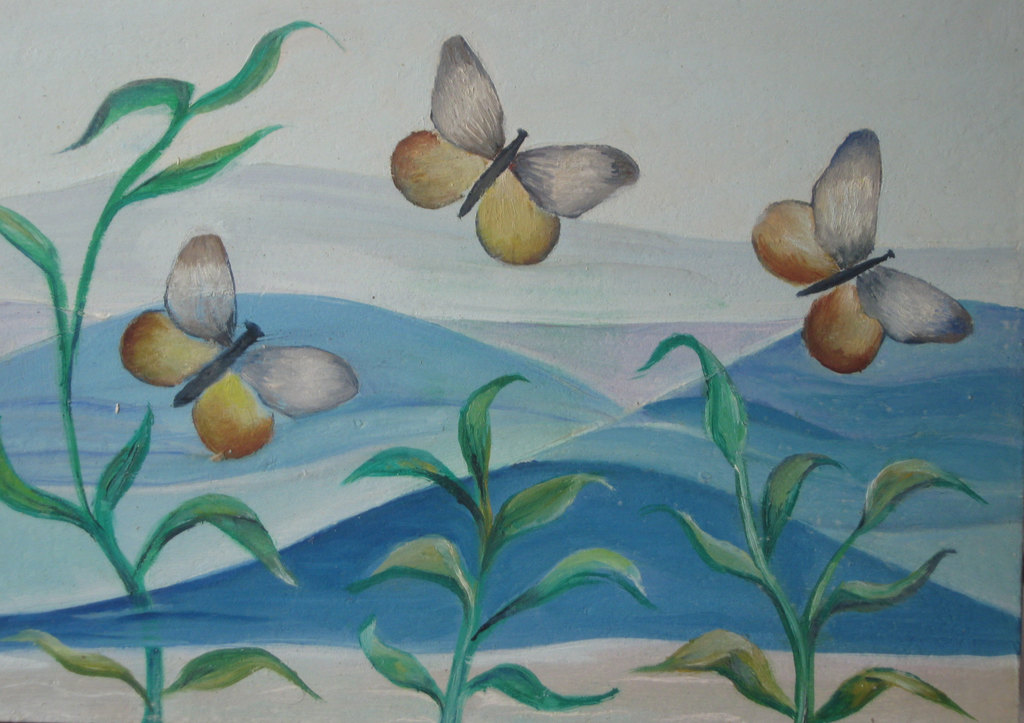Animal: (389, 34, 640, 265), (748, 126, 971, 375), (120, 231, 360, 457)
